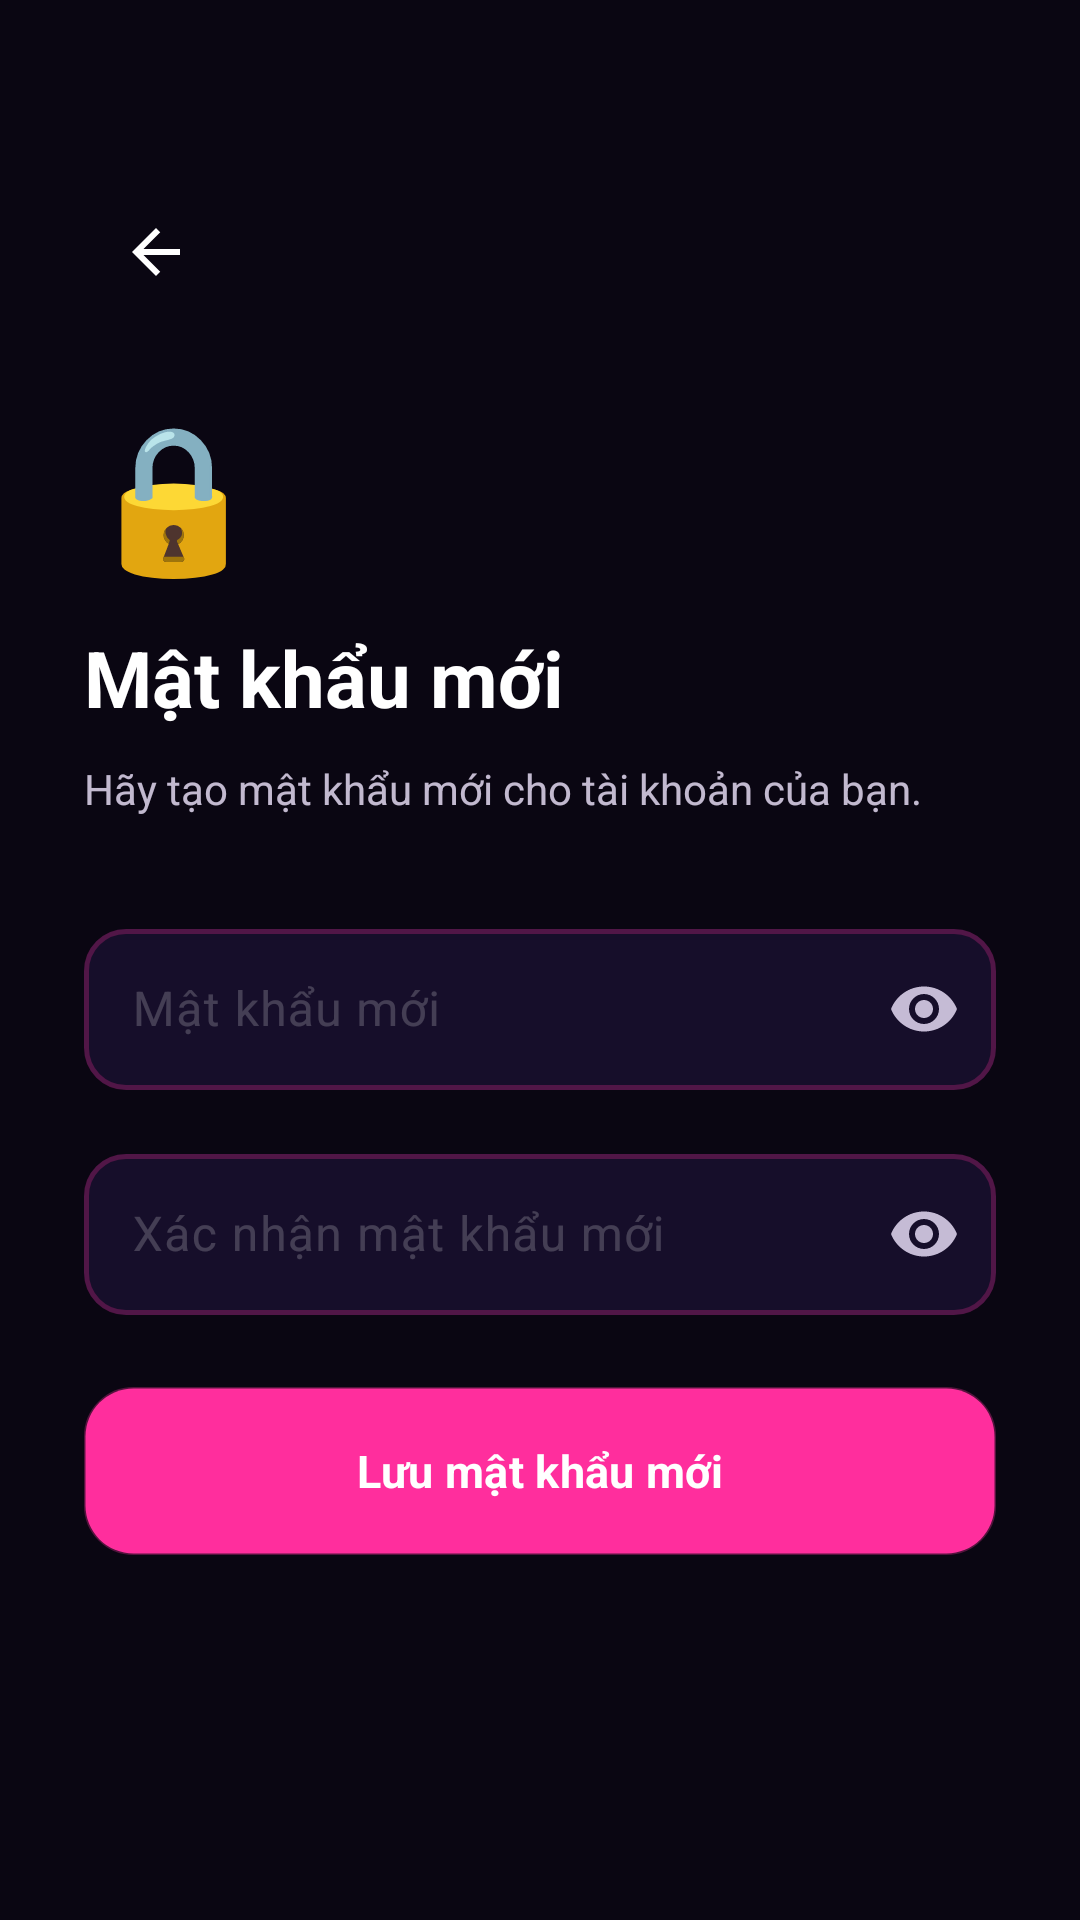

Point at icon controls on the screen. Image size 1080 × 1920, points as (x,y).
Quay lại: (156,252)
